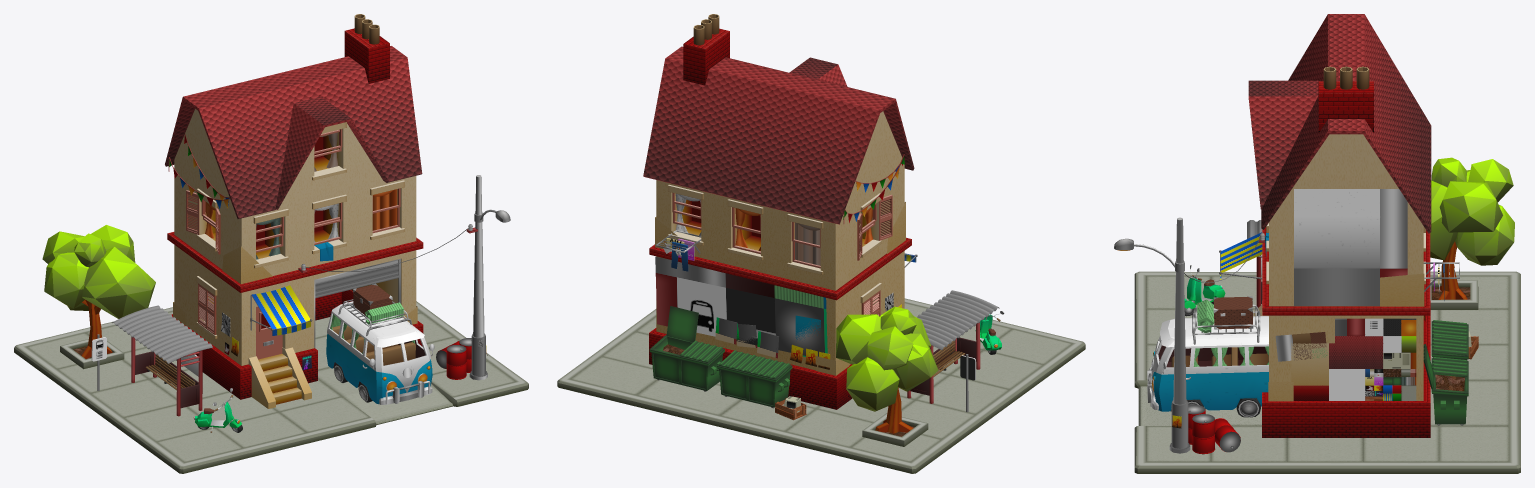
File: ptm.obj
3 views of the same model, side by side, from view 1: azimuth 30°, elevation 25°; view 2: azimuth 150°, elevation 25°; view 3: azimuth 270°, elevation 25° (orthographic). The views are drawn at different scales.
Parts seen in each view (by area): view 1: House_Mesh.001; view 2: House_Mesh.001; view 3: House_Mesh.001.
Boxes of the visible parts, x1=… form: House_Mesh.001: x1=14, y1=14, x2=528, y2=473; House_Mesh.001: x1=557, y1=14, x2=1085, y2=473; House_Mesh.001: x1=1114, y1=14, x2=1520, y2=473.
Bounding box in the file's own units: 21.71 × 18.86 × 19.06.
